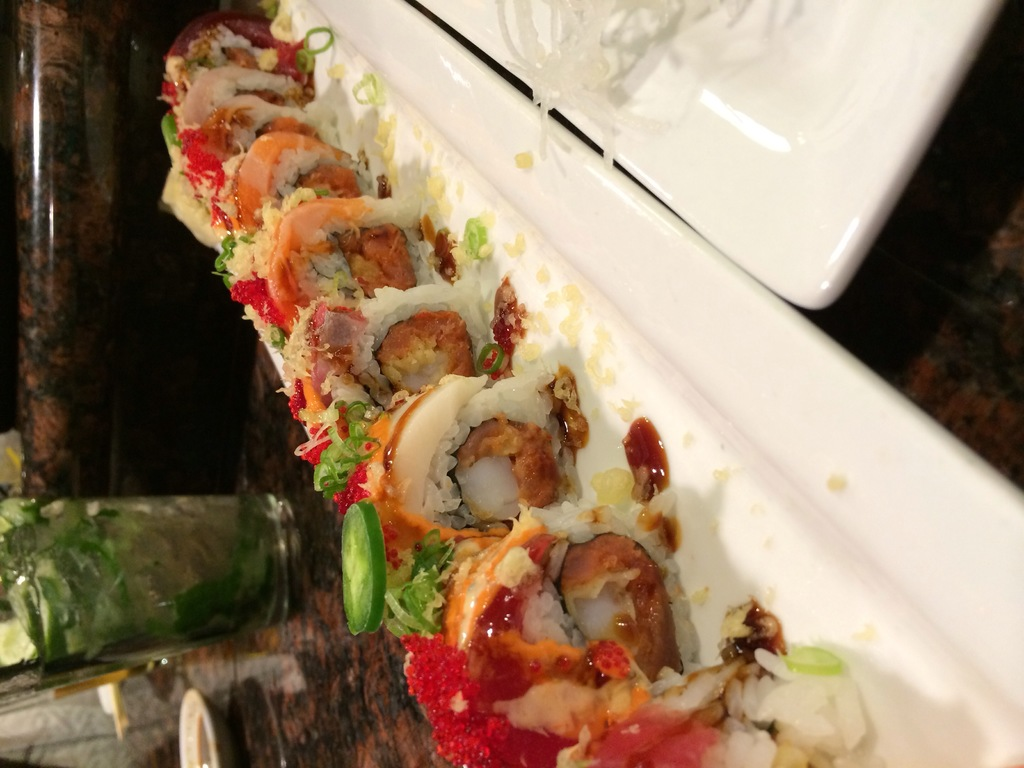sushi: (164, 2, 865, 764), (414, 514, 695, 766)
